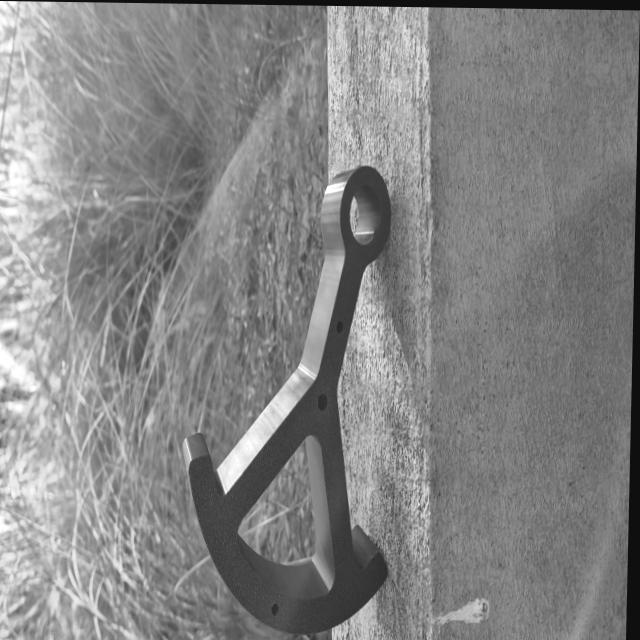haptic: (178, 158, 401, 637)
